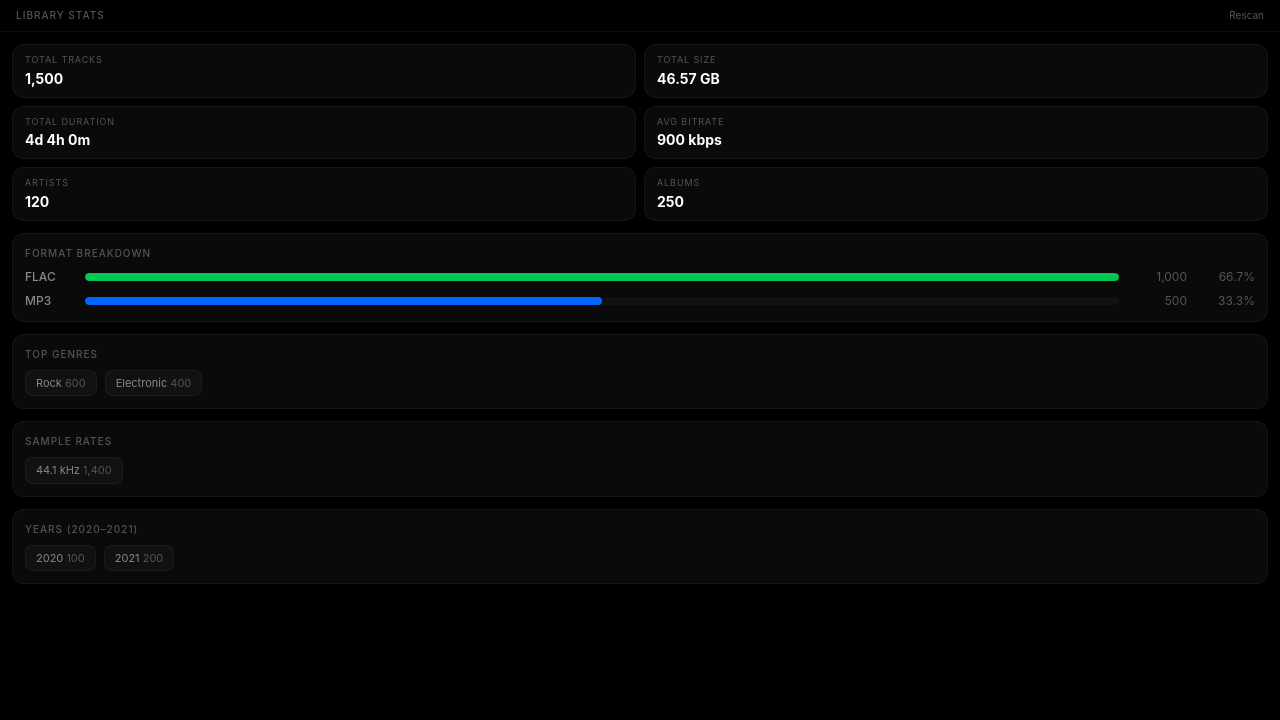
Test: stats drill-down › opens detail modal when format bar is clicked
Click the text "FLAC". click: (40, 276)
box: [25,268,56,284]
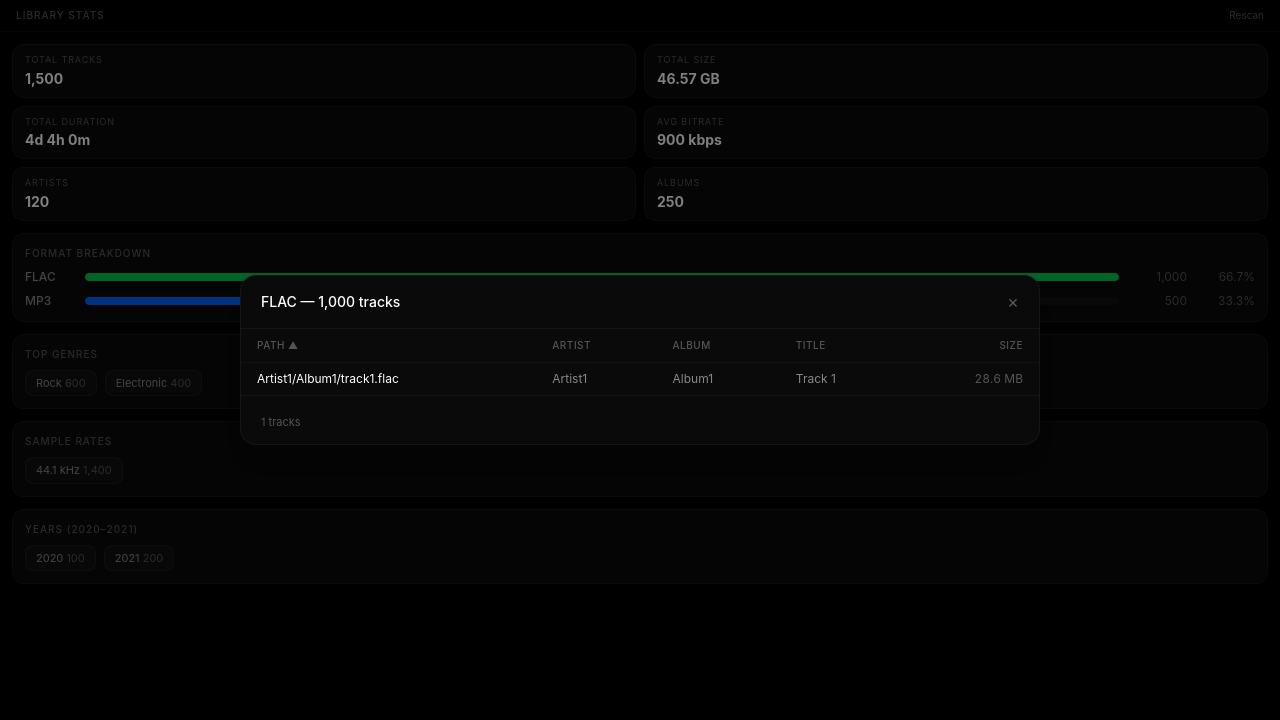
Expected: the heading "FLAC — 1,000 tracks" is shown, [261,292,400,312]
Expected: the text "Artist1/Album1/track1.flac" is shown, [241,363,536,395]
